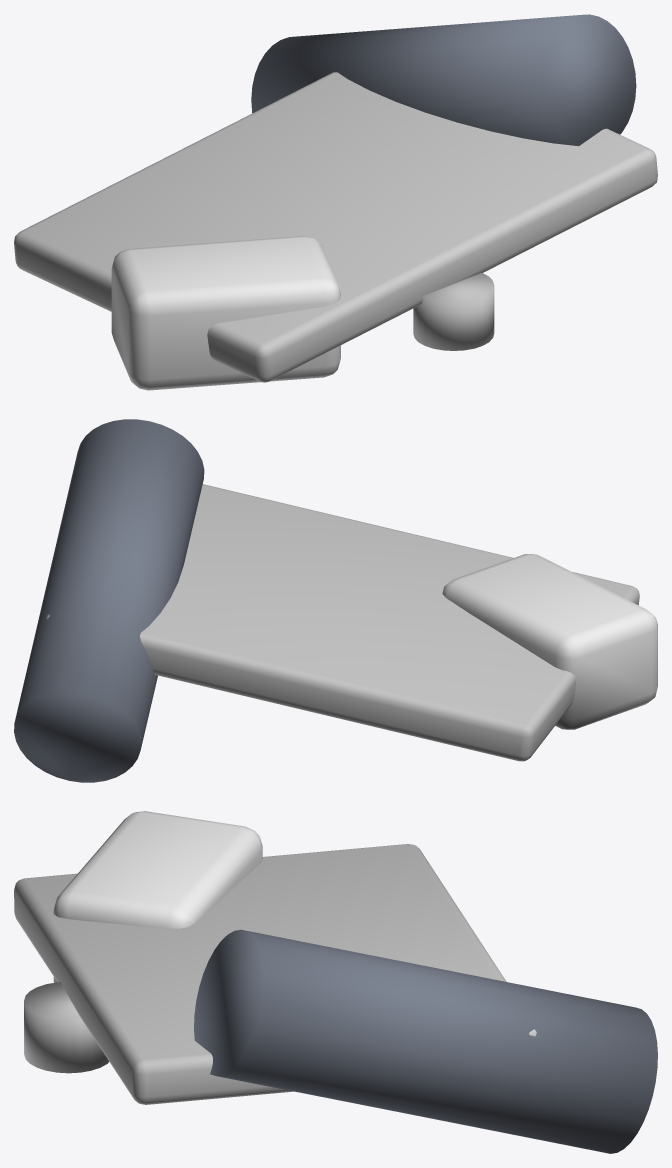
File: scrap-metal.obj
The picture shows the model from 3 angles, top to bottom: view 1: azimuth 30°, elevation 25°; view 2: azimuth 150°, elevation 25°; view 3: azimuth 270°, elevation 25°; orthographic projection. The views are drawn at different scales.
Parts seen in each view (by area): view 1: scrap-metal; view 2: scrap-metal; view 3: scrap-metal.
Boxes of the visible parts, x1,y1,x2,y2 form: scrap-metal: (14,14,657,390); scrap-metal: (14,419,657,782); scrap-metal: (14,811,657,1153).
Bounding box in the file's own units: 0.4736 × 0.1966 × 0.4327.
